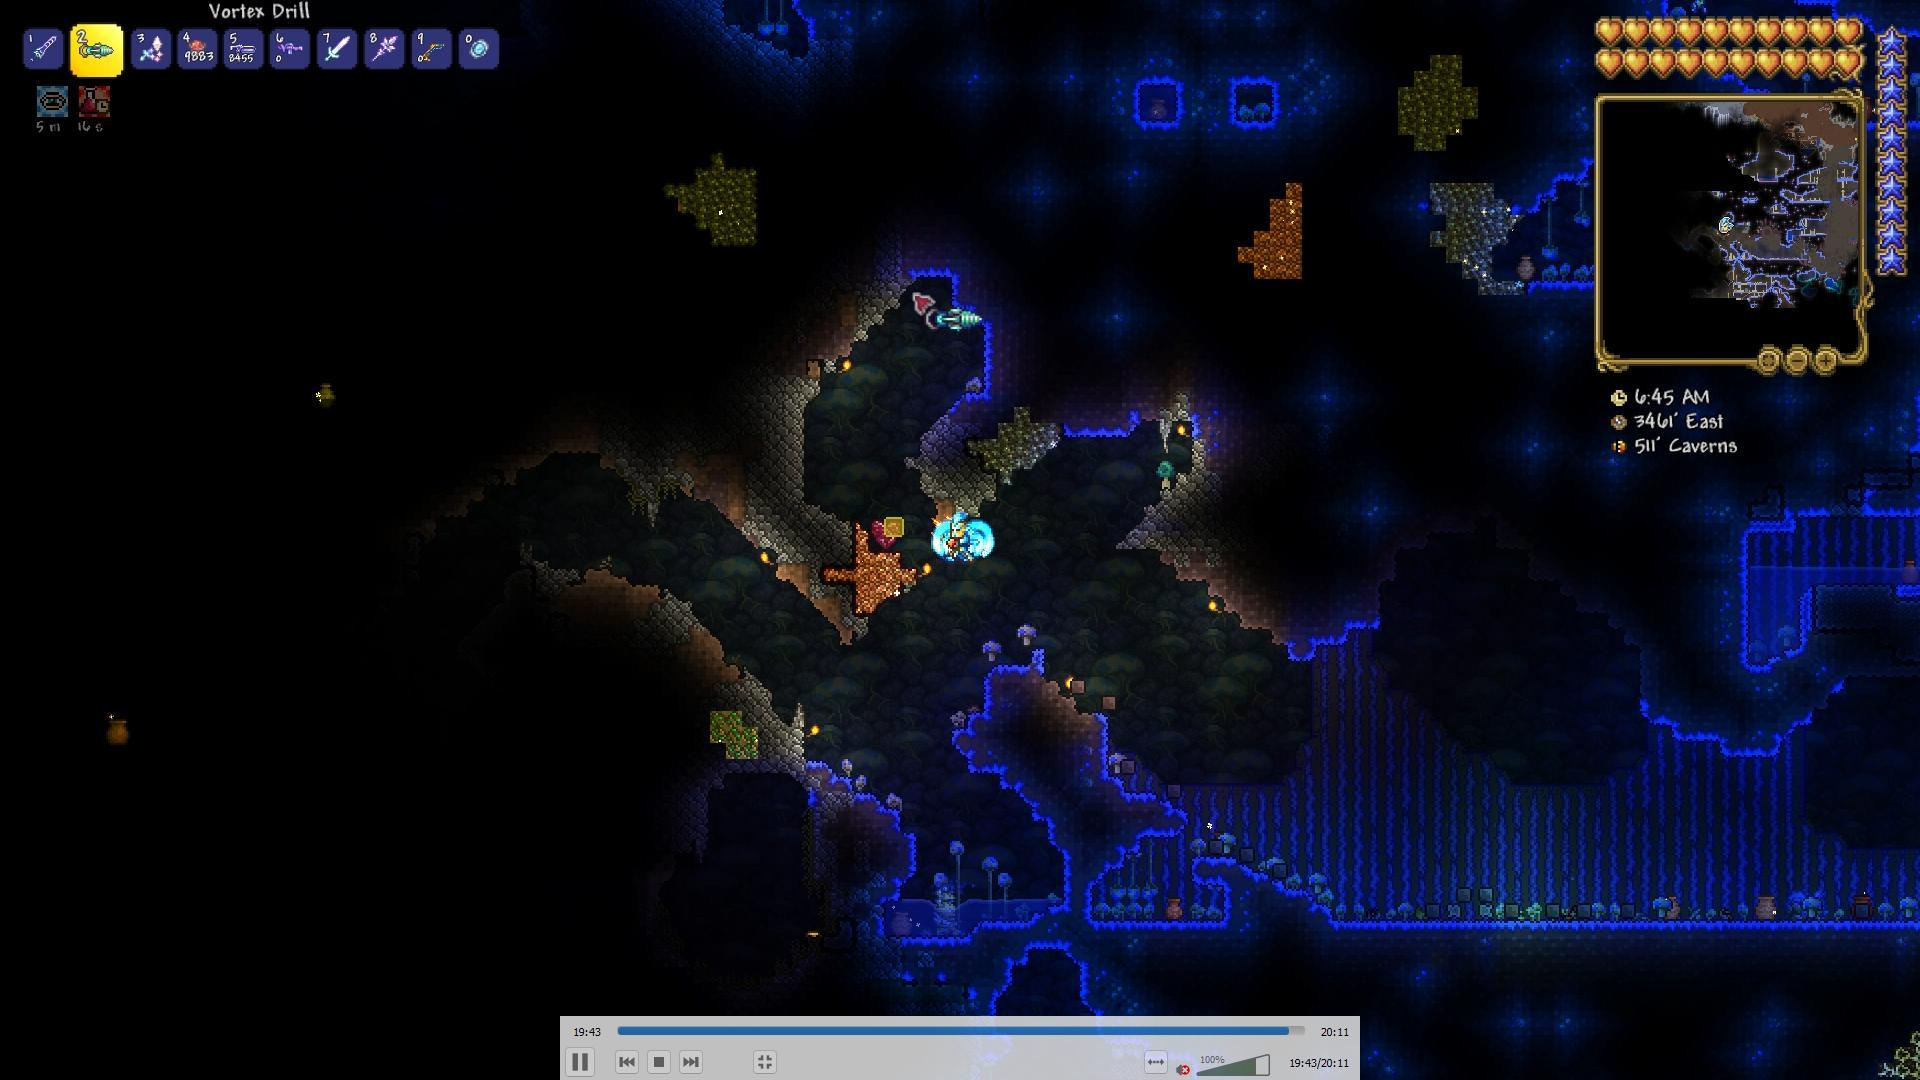lifeC: (869, 517, 905, 553)
pot: (105, 711, 131, 750), (1160, 890, 1189, 919), (1754, 886, 1776, 922)
